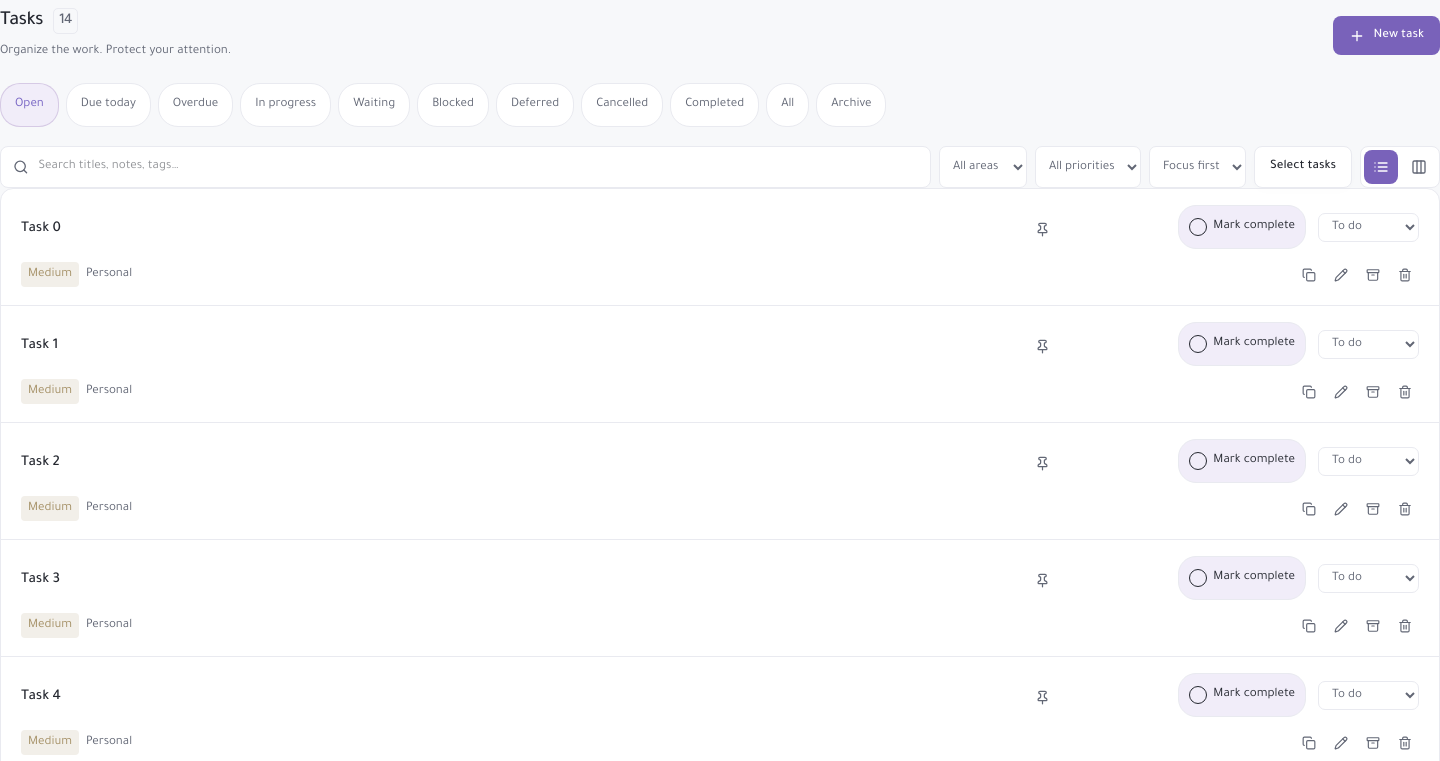
Test case: status board bounds the task page, switches states, and clamps pages after completion
What coordinates should you click on to do the following:
click the button named "Board view"
I would click on:
 (1419, 167)
Its box is [1402,150,1436,184].
(page scrolled)
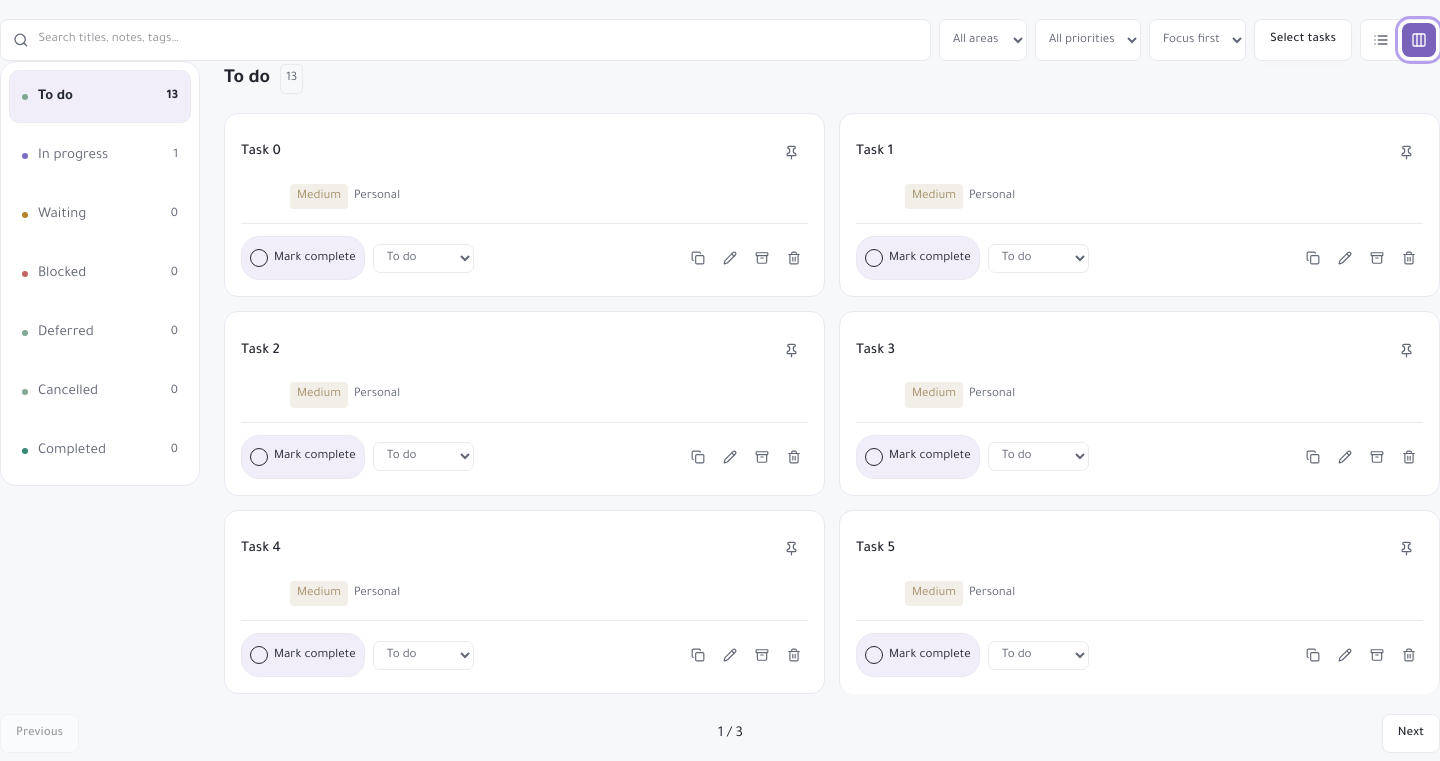
Check: the number of elements with class "task-item" is 6, box [224,113,825,298]; [839,113,1439,298]; [224,312,825,496]; [839,312,1439,496]; [224,510,825,694]; [839,510,1439,694]
What coordinates should you click on to do the following:
click the button "Next"
I would click on:
 (1411, 734)
Its box is [1382,714,1439,753].
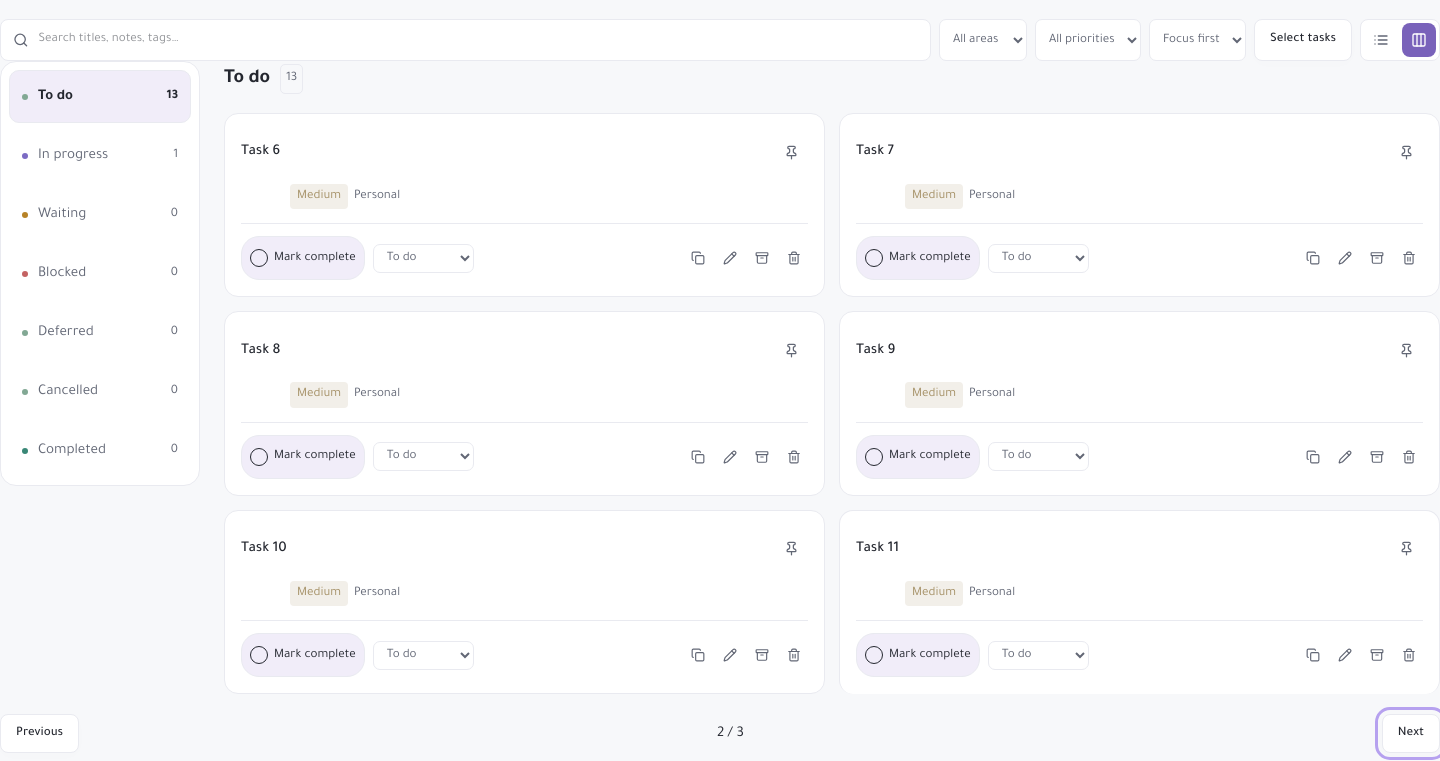
What coordinates should you click on to do the following:
click the button "Next"
I would click on:
 (1411, 734)
Its box is [1382,714,1439,753].
(page scrolled)
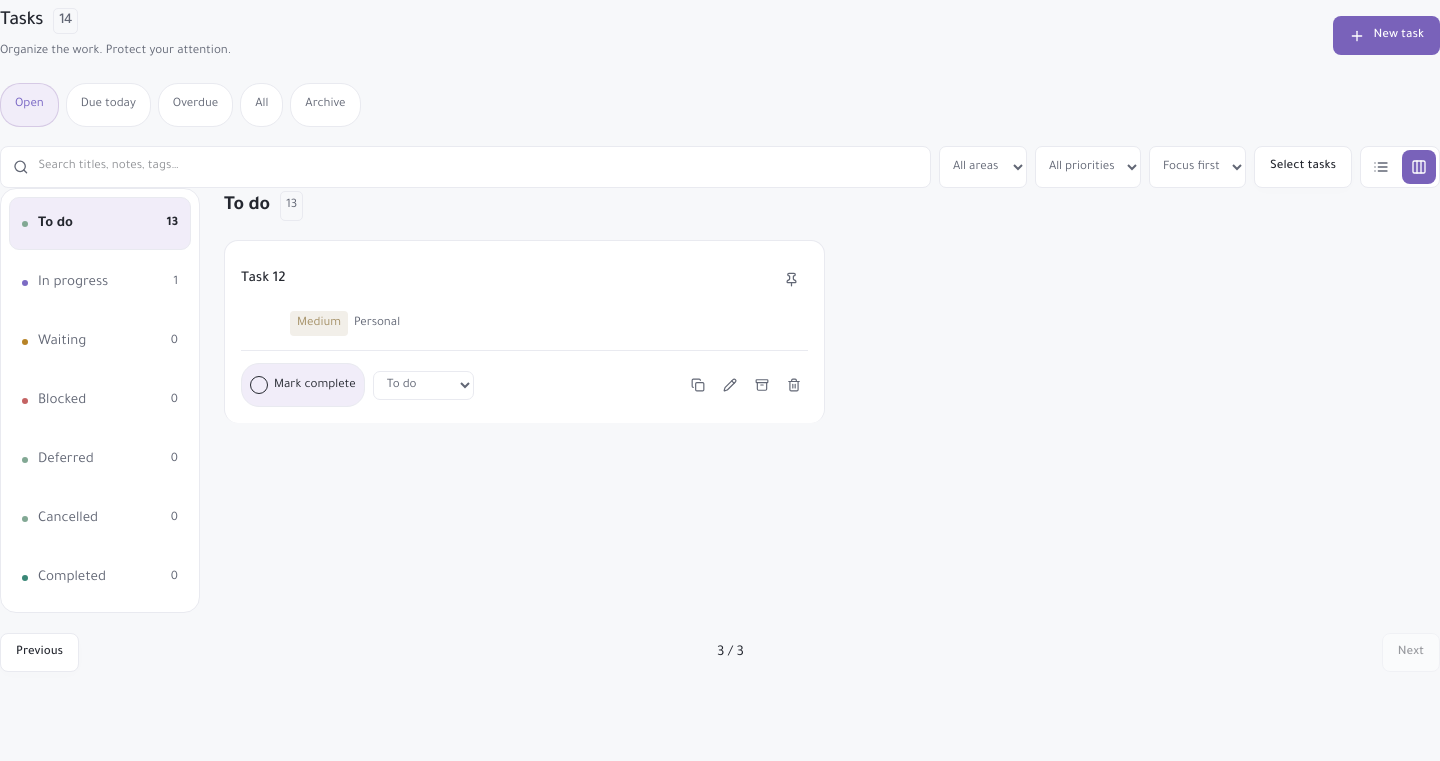
Check: the number of elements with class "task-item" is 1, box [224,240,825,424]
What coordinates should you click on to do the following:
click the button with aria-label "Complete: Task 12"
I would click on:
 (303, 386)
Its box is [241,364,365,408].
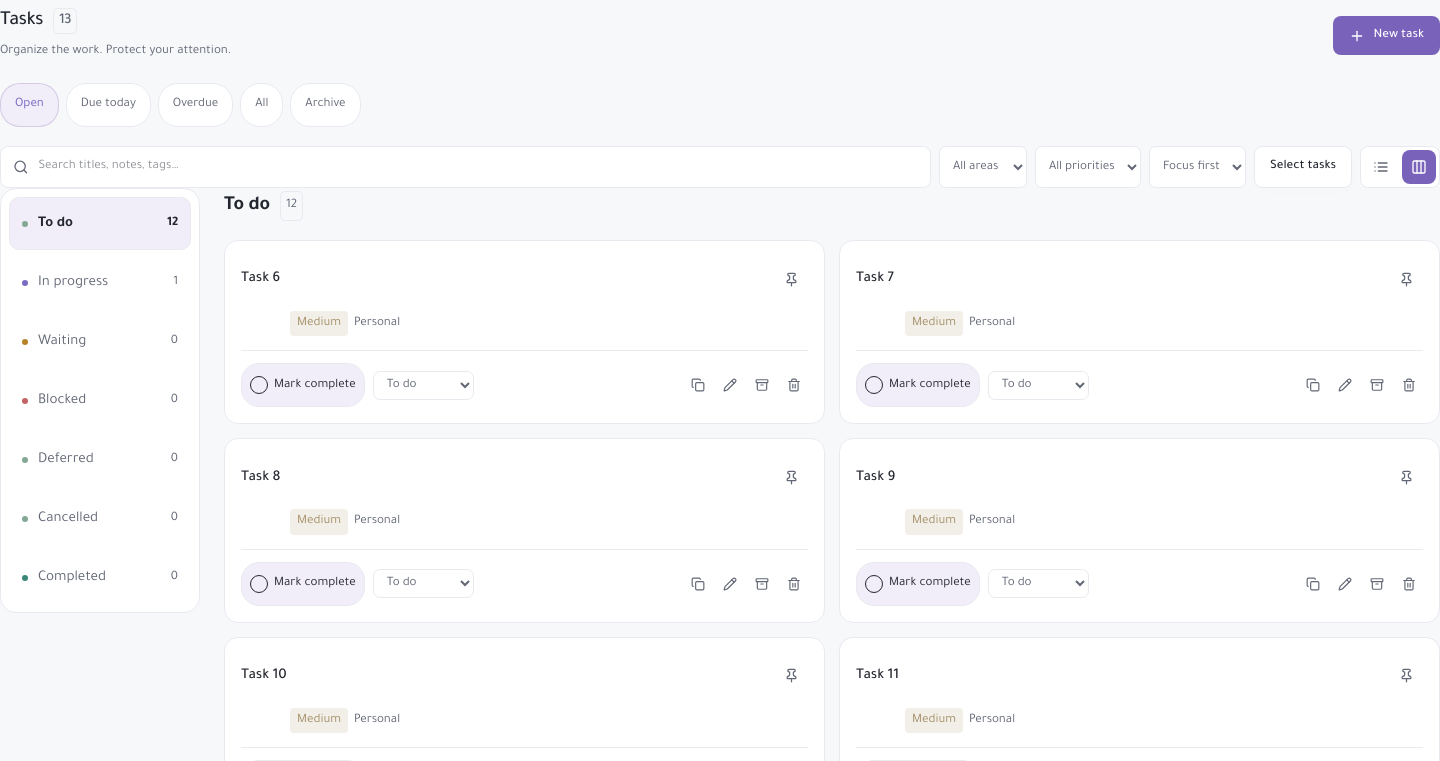
What coordinates should you click on to do the following:
click the button with class "status-doing"
I would click on:
 (100, 283)
Its box is [9,256,191,309].
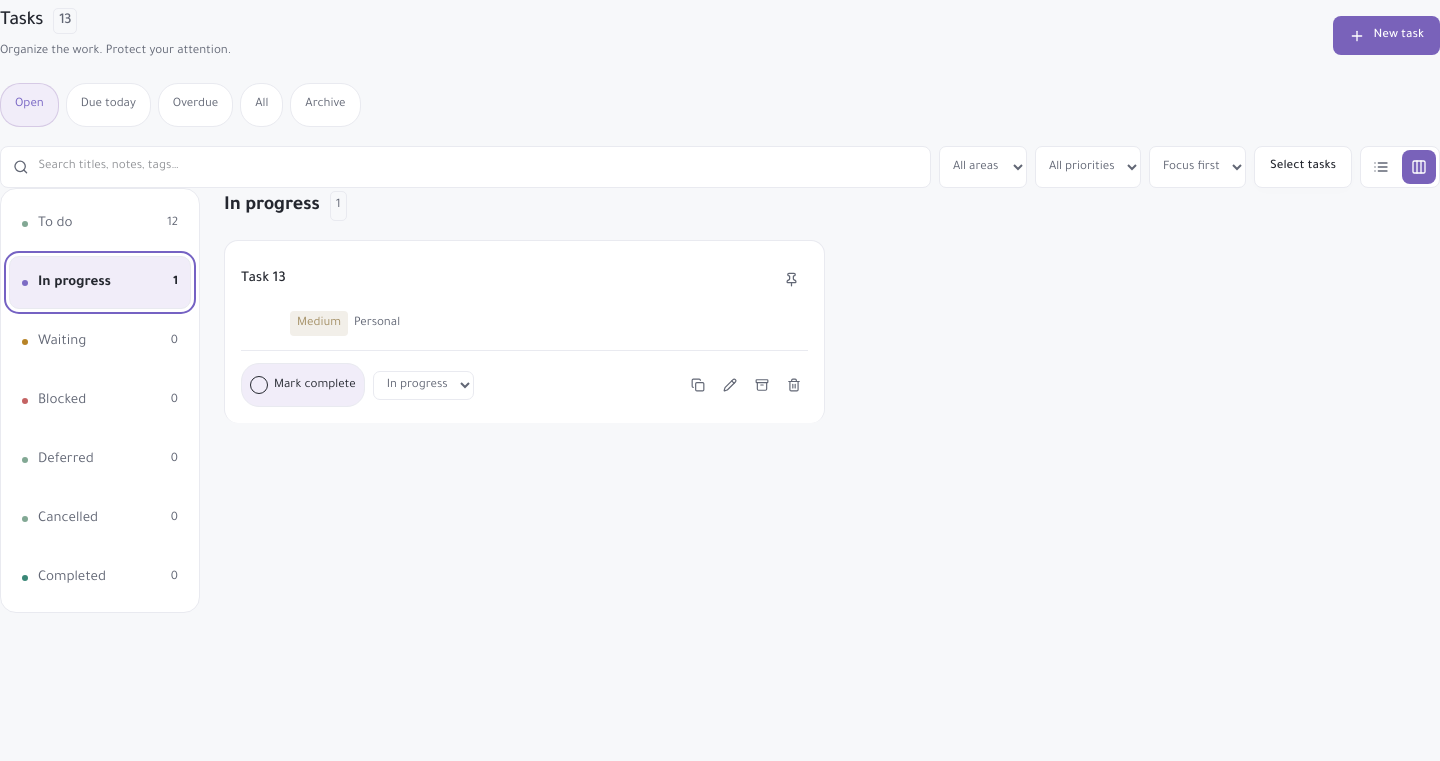
Check: the button "Task 13" is shown, box [241,257,762,301]
Check: the number of elements with class "task-item" is 1, box [224,240,825,424]
